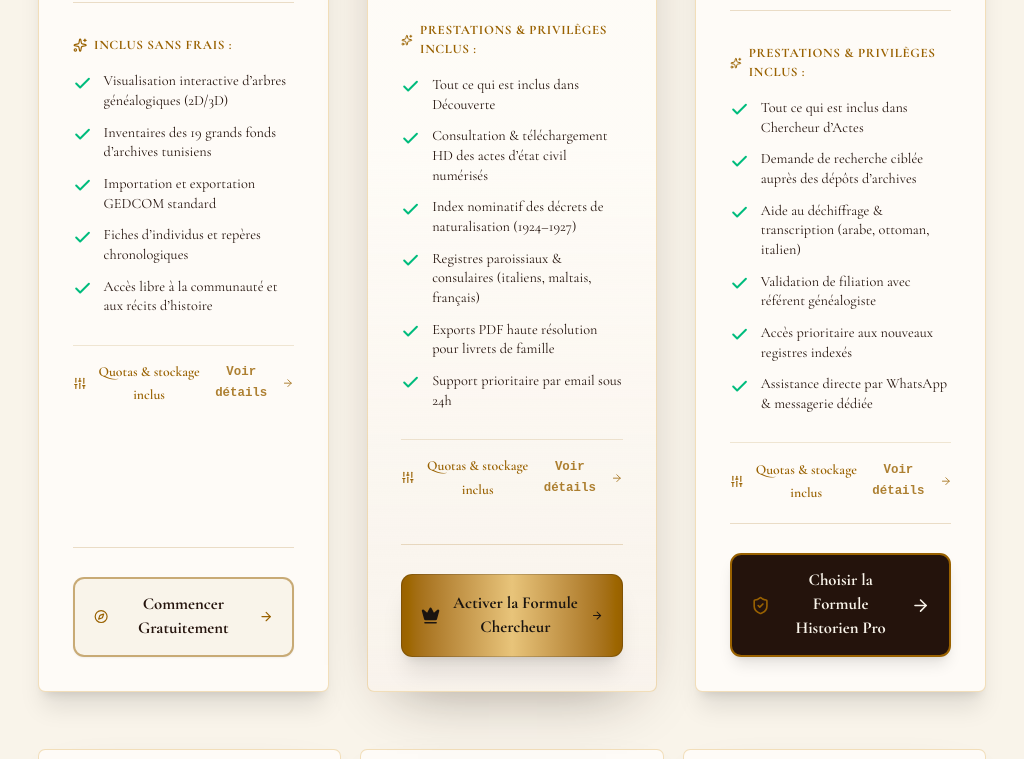
Test case: Subscriptions Page Redesign › opens and closes the technical quotas modal
The width and height of the screenshot is (1024, 759).
(page scrolled)
Click the button "Quotas & stockage inclus Voir détails" below "Inclus sans frais :". click: (183, 376)
box: [73,345,294,407]
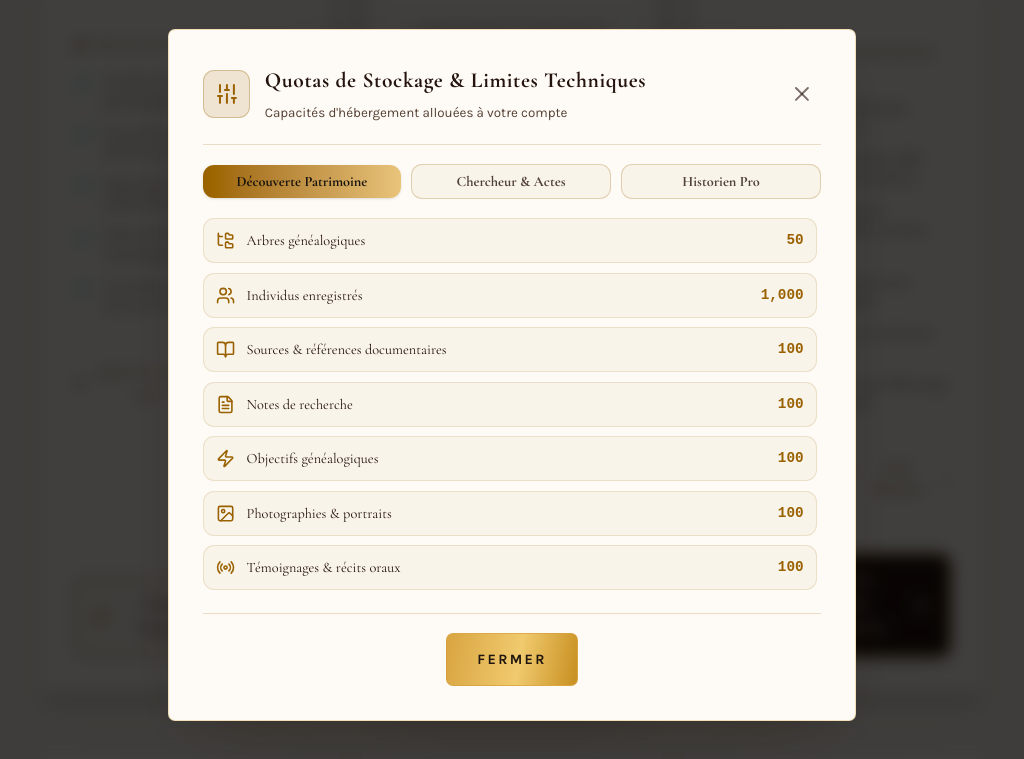
Expected: the heading "Quotas de Stockage & Limites Techniques" is shown, [265,64,646,97]
# Close button
Click the button "Fermer". click: (512, 659)
box: [446,633,578,686]
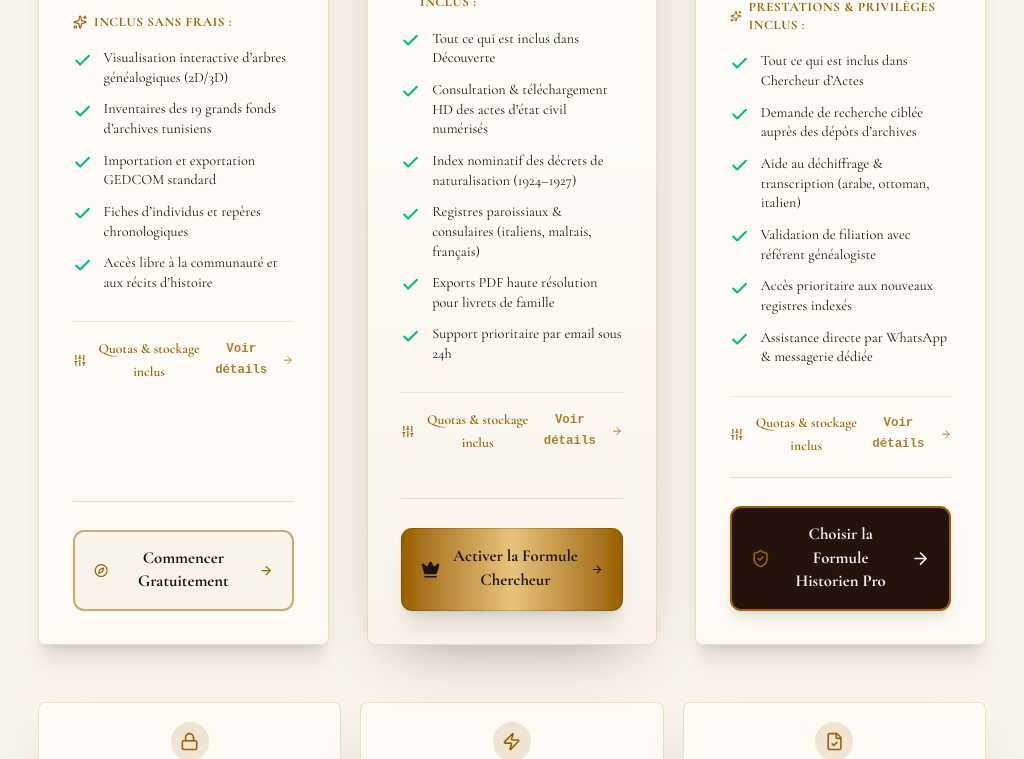
Expected: the heading "Quotas de Stockage & Limites Techniques" is gone
